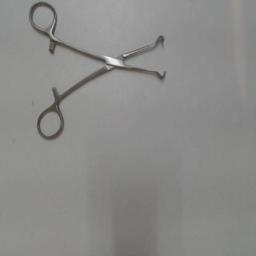Babcock Tissue Forceps: (26, 2, 170, 144)
